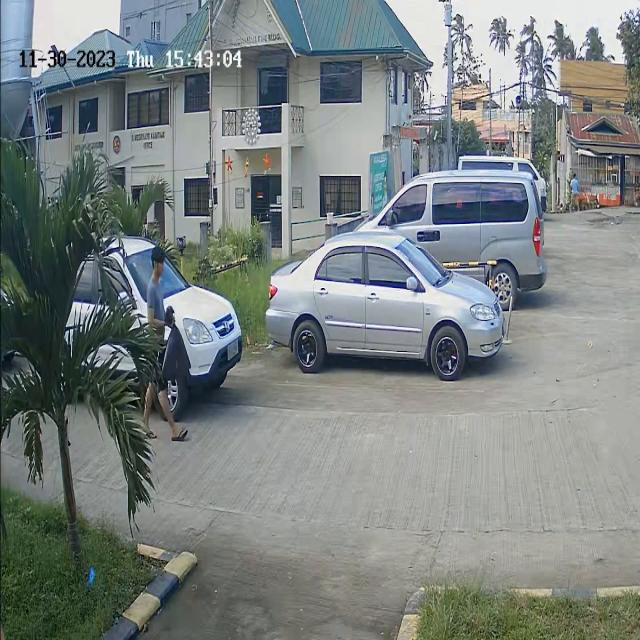garbage: (157, 313, 198, 386)
person: (142, 243, 169, 343)
